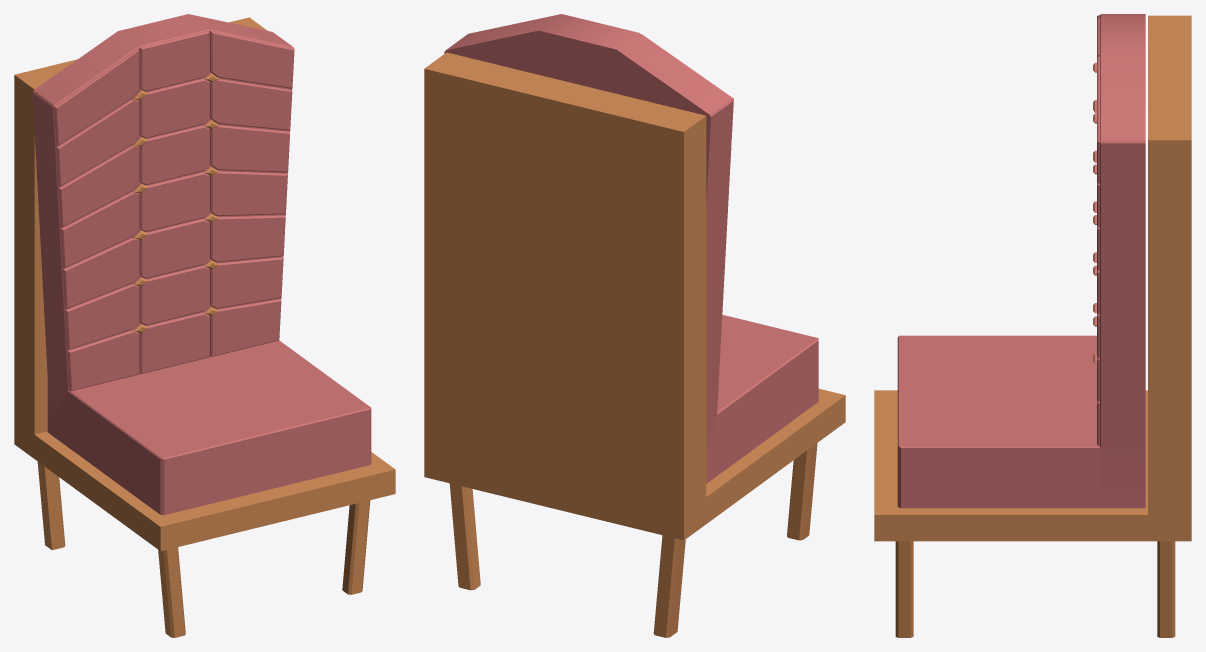
The model's file is STM_DiningChair.fbx.
The picture shows the model from 3 angles, left to right: view 1: azimuth 30°, elevation 25°; view 2: azimuth 150°, elevation 25°; view 3: azimuth 270°, elevation 25°; orthographic projection. The views are drawn at different scales.
Visible parts, largest first — view 1: pCube94; view 2: pCube94; view 3: pCube94.
Boxes of the visible parts, x1=… form: pCube94: x1=14, y1=14, x2=395, y2=637; pCube94: x1=424, y1=14, x2=845, y2=637; pCube94: x1=874, y1=14, x2=1191, y2=637.
Bounding box in the file's own units: 1.06 × 2.14 × 1.12.
